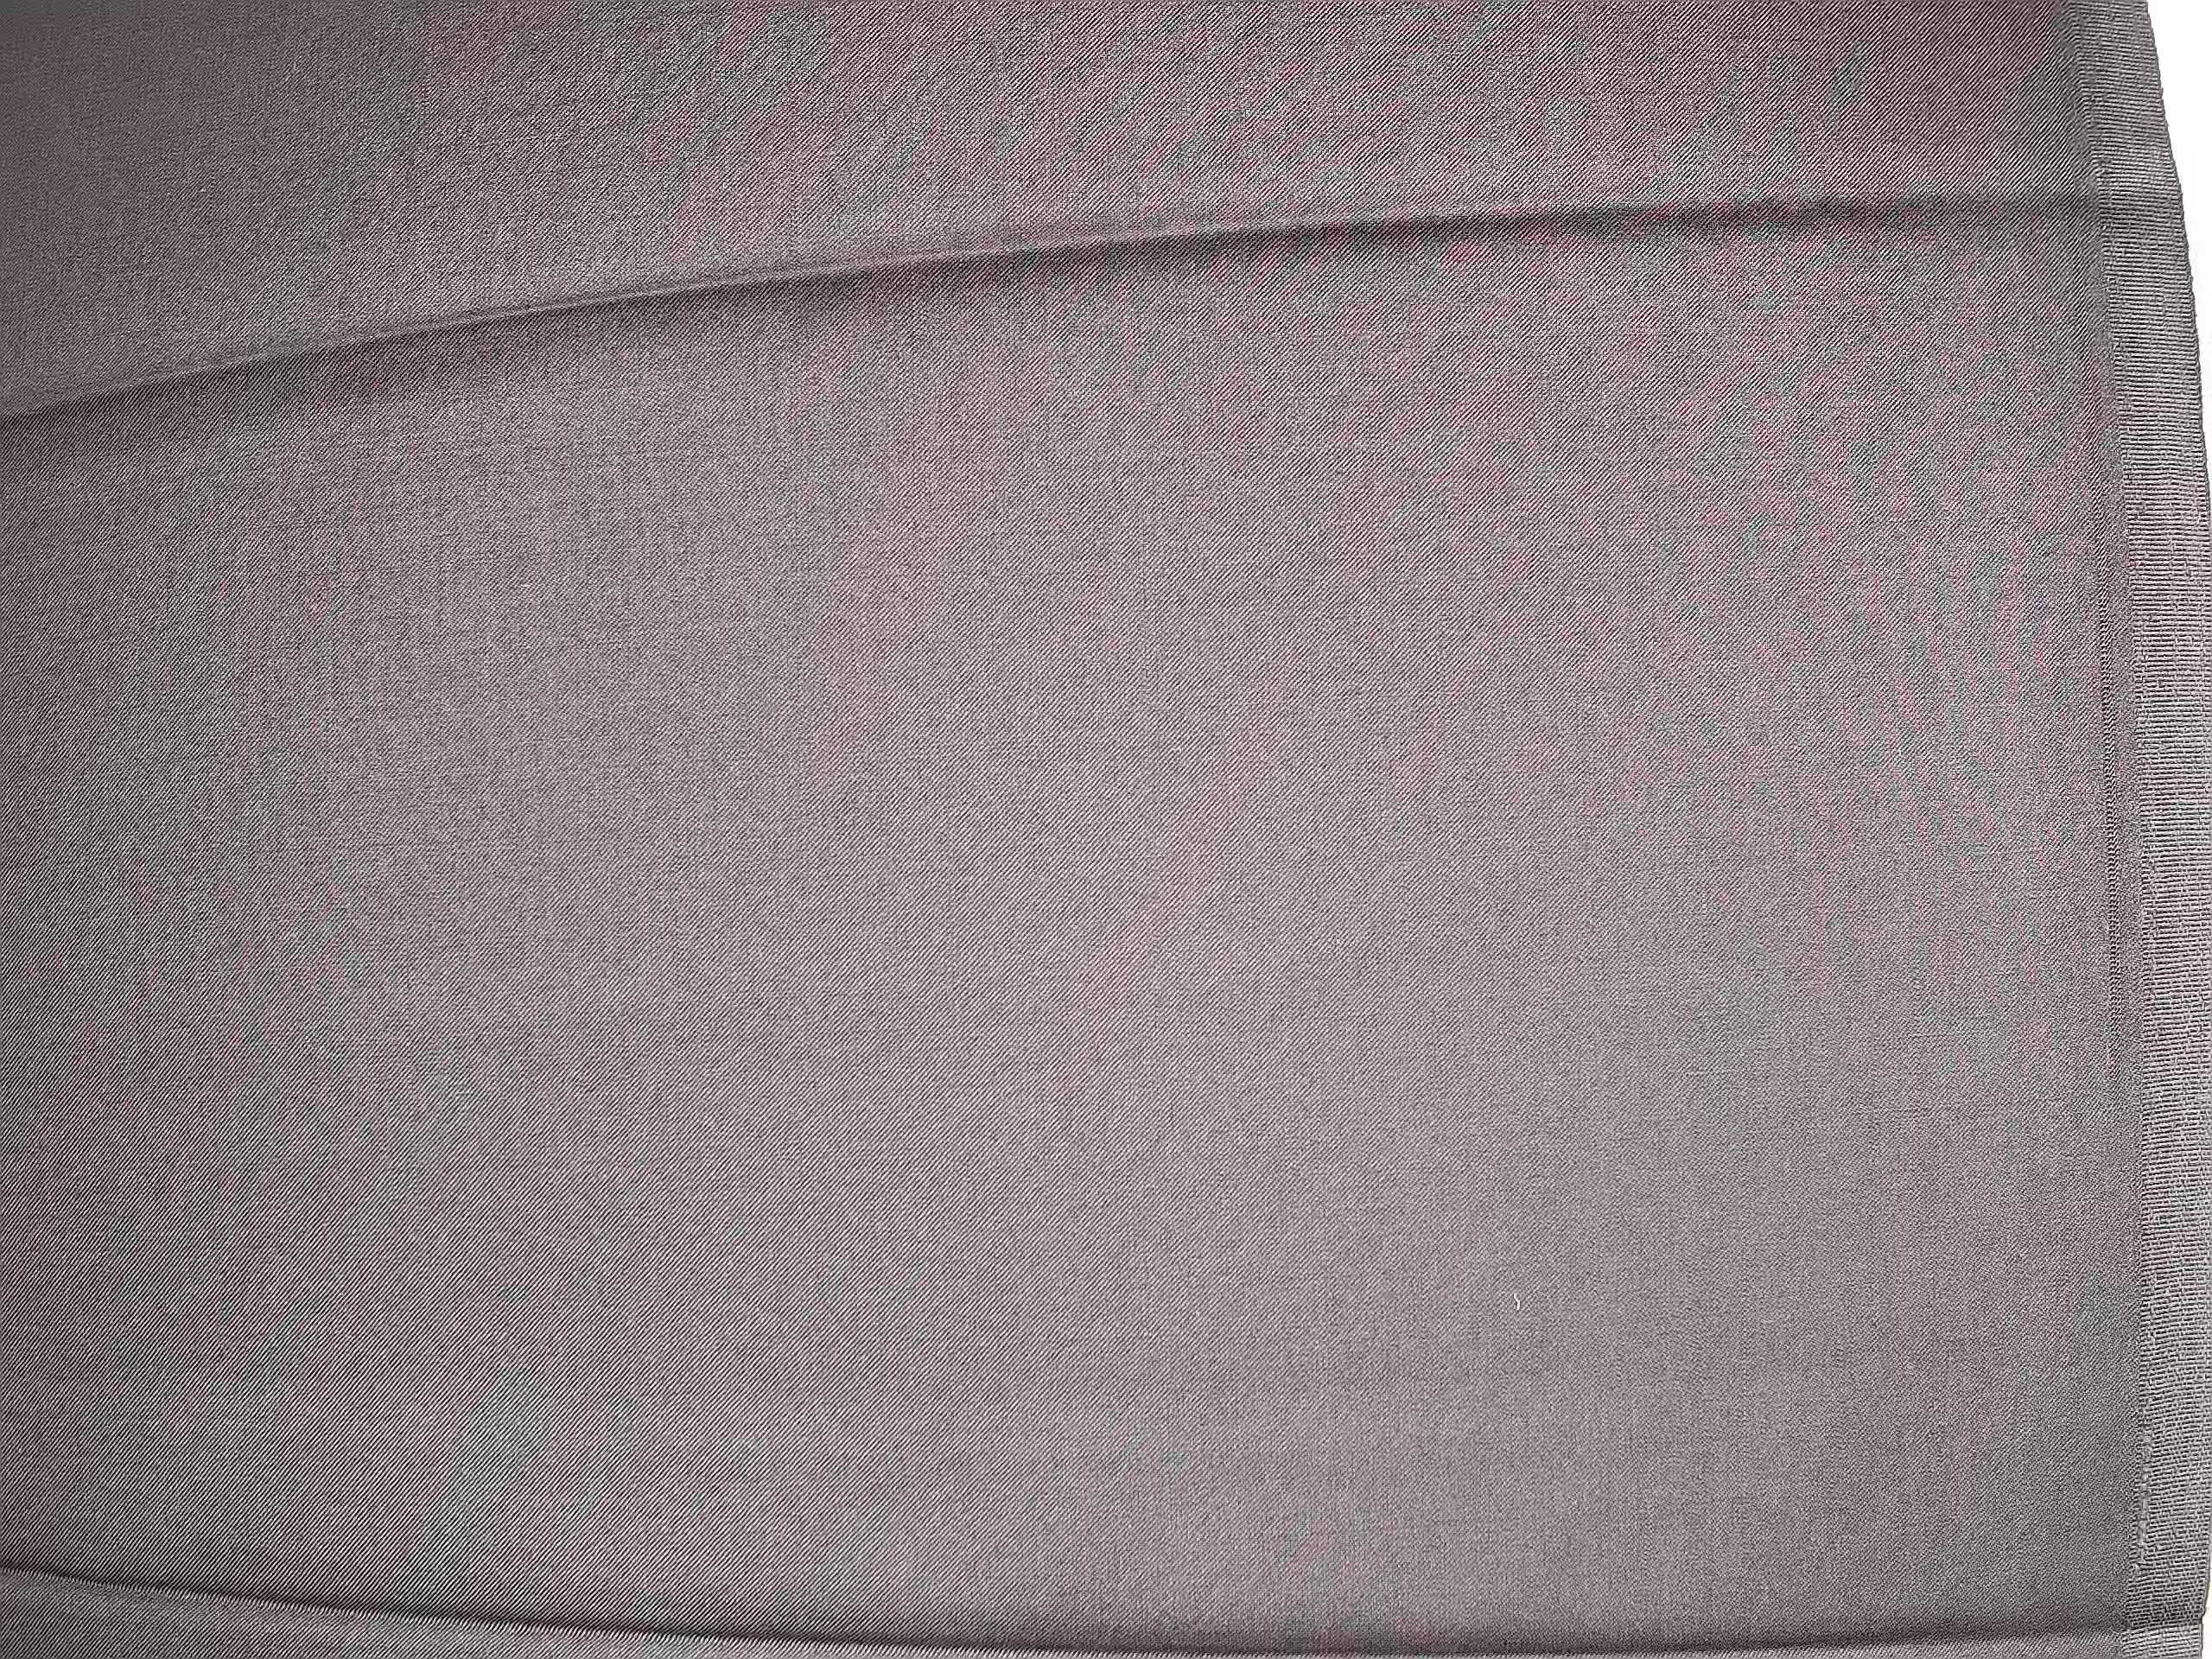others: (2088, 486, 2134, 1047)
